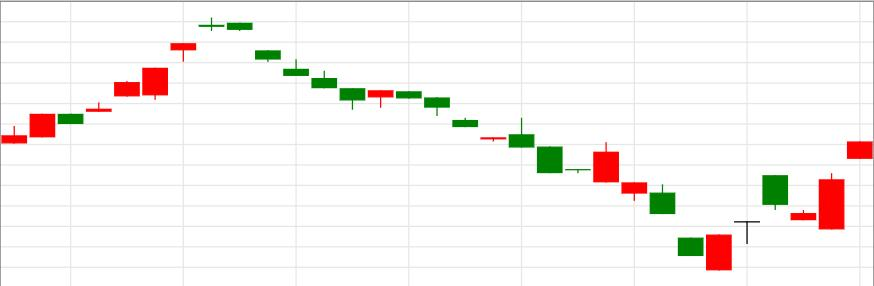bullish_engulfing_rise: (509, 117, 732, 271)
